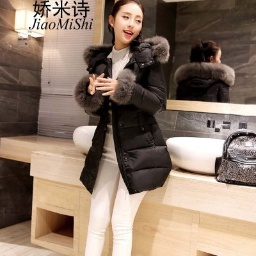face: (101, 1, 155, 46)
